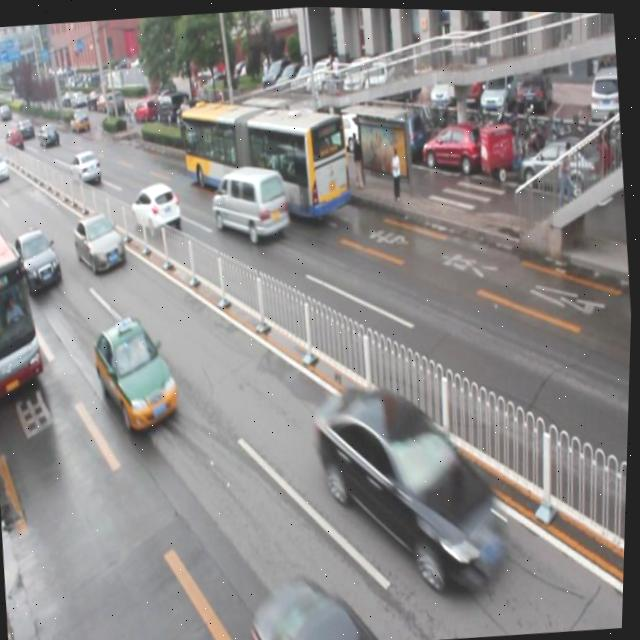car: (311, 373, 518, 603), (252, 563, 420, 640), (92, 309, 183, 433), (72, 209, 129, 274), (12, 223, 64, 292), (130, 180, 183, 235), (69, 149, 103, 185)
truck: (210, 161, 292, 246)
van: (176, 88, 356, 235), (0, 202, 49, 402)
